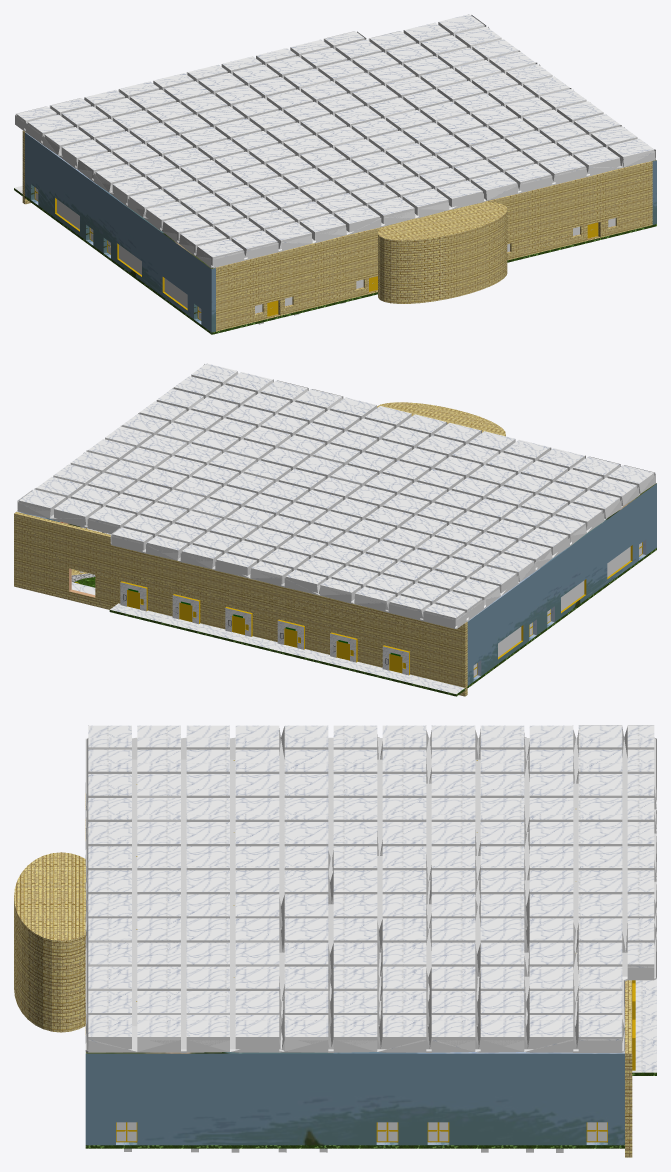
The model's file is Casino Level 1.glb.
The picture shows the model from 3 angles, top to bottom: view 1: azimuth 30°, elevation 25°; view 2: azimuth 150°, elevation 25°; view 3: azimuth 270°, elevation 25°; orthographic projection. The views are drawn at different scales.
Parts seen in each view (by area): view 1: Ceiling, Wall.001, Wall.002, Entryway, Floor; view 2: Ceiling, Wall.003, Wall.002, Floor, Elev - Inop, Entryway; view 3: Ceiling, Wall, Entryway, Floor, Wall.003.
Boxes of the visible parts, left/top/right/bottom form: Ceiling: left=15, top=14, right=655, bottom=268; Wall.001: left=216, top=161, right=652, bottom=331; Wall.002: left=25, top=132, right=215, bottom=332; Entryway: left=378, top=201, right=507, bottom=303; Floor: left=14, top=186, right=656, bottom=334; Ceiling: left=17, top=363, right=655, bottom=628; Wall.003: left=14, top=511, right=467, bottom=696; Wall.002: left=467, top=483, right=656, bottom=685; Floor: left=71, top=528, right=656, bottom=696; Elev - Inop: left=120, top=581, right=409, bottom=675; Entryway: left=377, top=402, right=505, bottom=436; Ceiling: left=85, top=725, right=656, bottom=1052; Wall: left=85, top=1052, right=624, bottom=1145; Entryway: left=14, top=852, right=85, bottom=1032; Floor: left=85, top=832, right=656, bottom=1148; Wall.003: left=625, top=980, right=632, bottom=1157.
Size of what is drawn, in the model's own units: 62.92 by 13.26 by 54.51.
Materials: 47 (7 with a texture image).
